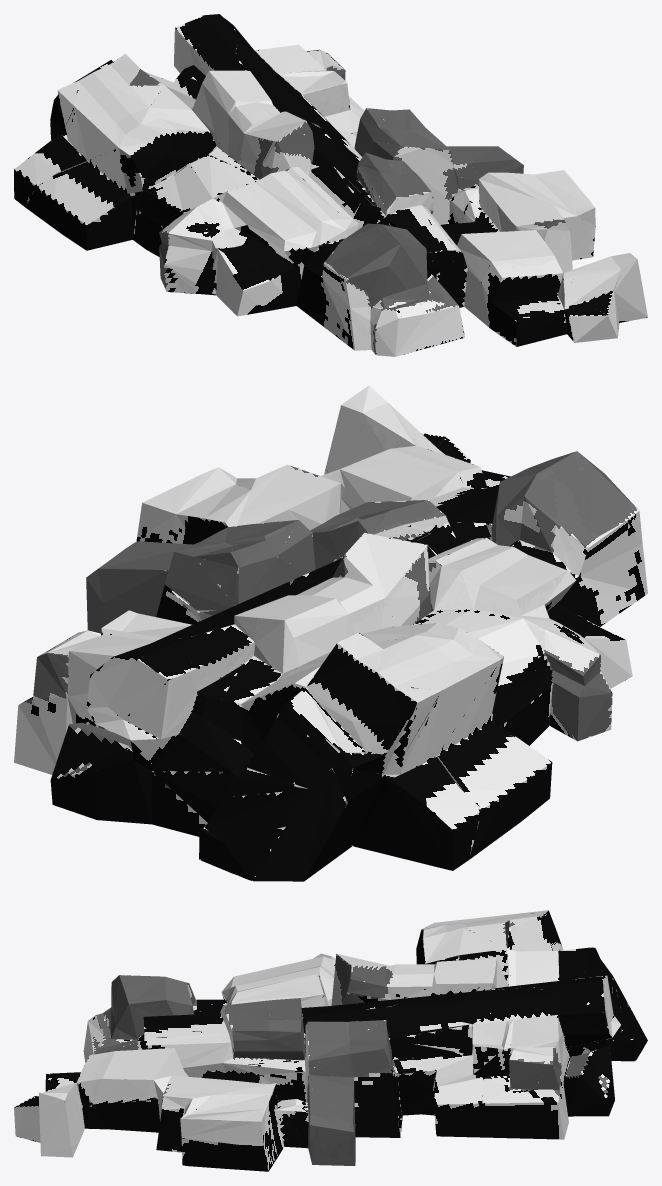
3 views of the same model, one above another, from view 1: azimuth 30°, elevation 25°; view 2: azimuth 150°, elevation 25°; view 3: azimuth 270°, elevation 25° (orthographic). The views are drawn at different scales.
Parts seen in each view (by area): view 1: OBJ0d2; view 2: OBJ0d2; view 3: OBJ0d2.
Part boxes in pixels (x1=…): OBJ0d2: x1=14, y1=14, x2=647, y2=356; OBJ0d2: x1=14, y1=385, x2=647, y2=881; OBJ0d2: x1=14, y1=910, x2=647, y2=1171.
Size of the model in its own units: 0.3247 by 0.105 by 0.4875.
Materials: 1 (1 with a texture image).
